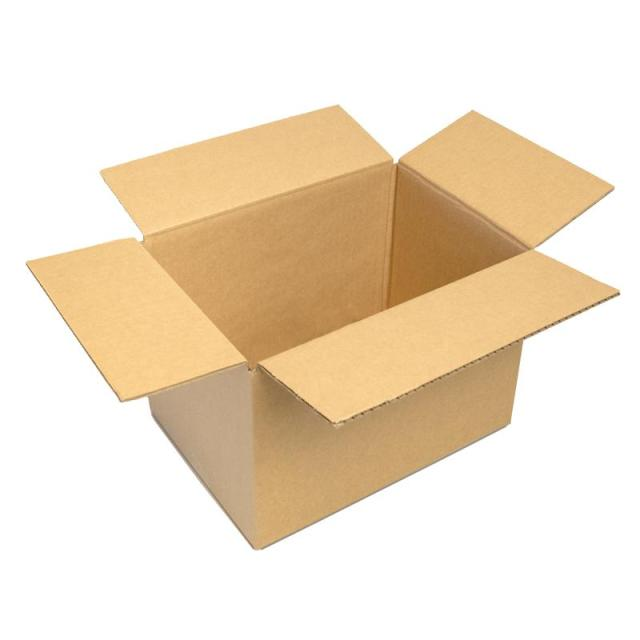Garbage: (22, 92, 624, 556)
